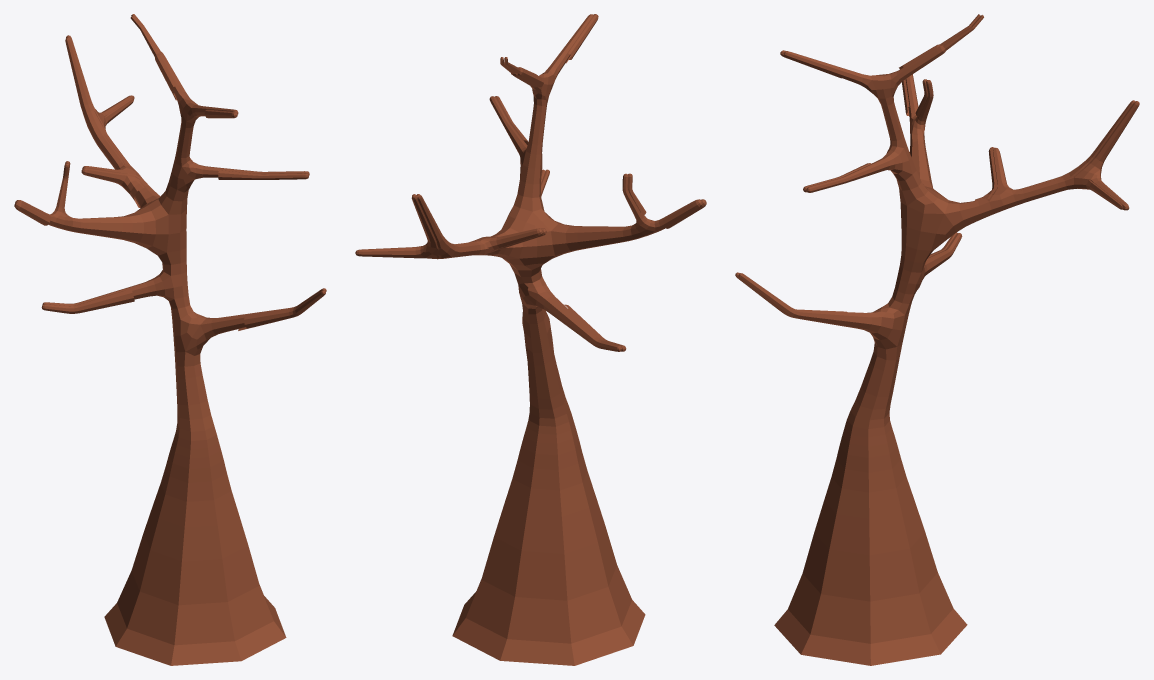
The model's file is ArbreV.2_Test.glb.
The picture shows the model from 3 angles, left to right: view 1: azimuth 30°, elevation 25°; view 2: azimuth 150°, elevation 25°; view 3: azimuth 270°, elevation 25°; orthographic projection. The views are drawn at different scales.
Visible parts, largest first — view 1: Plane, Branche; view 2: Plane, Branche; view 3: Plane, Branche.
Part boxes in pixels (x1=…): Plane: x1=15, y1=14, x2=326, y2=665; Branche: x1=14, y1=16, x2=325, y2=330; Plane: x1=355, y1=14, x2=701, y2=665; Branche: x1=417, y1=14, x2=706, y2=351; Plane: x1=738, y1=15, x2=1139, y2=665; Branche: x1=735, y1=14, x2=1135, y2=317.
Bounding box in the file's own units: 1.75 × 3.89 × 2.34.
